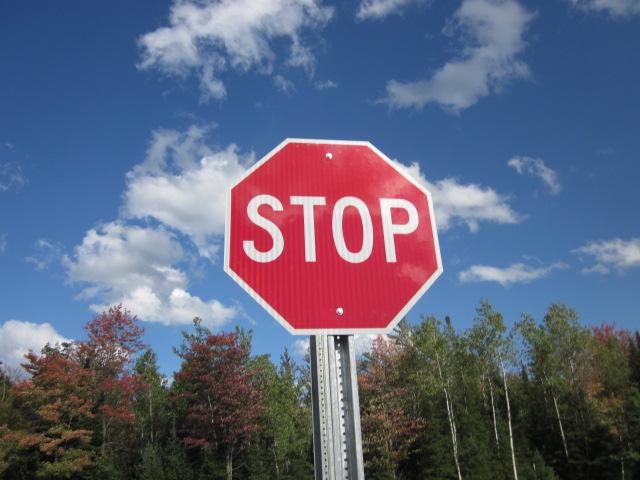stop: (224, 137, 448, 337)
